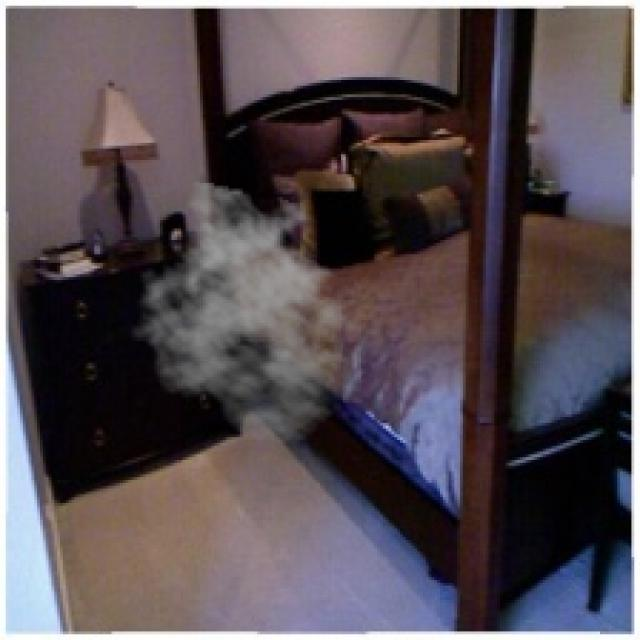smoke: (128, 180, 372, 446)
